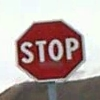stop: (15, 18, 84, 80)
